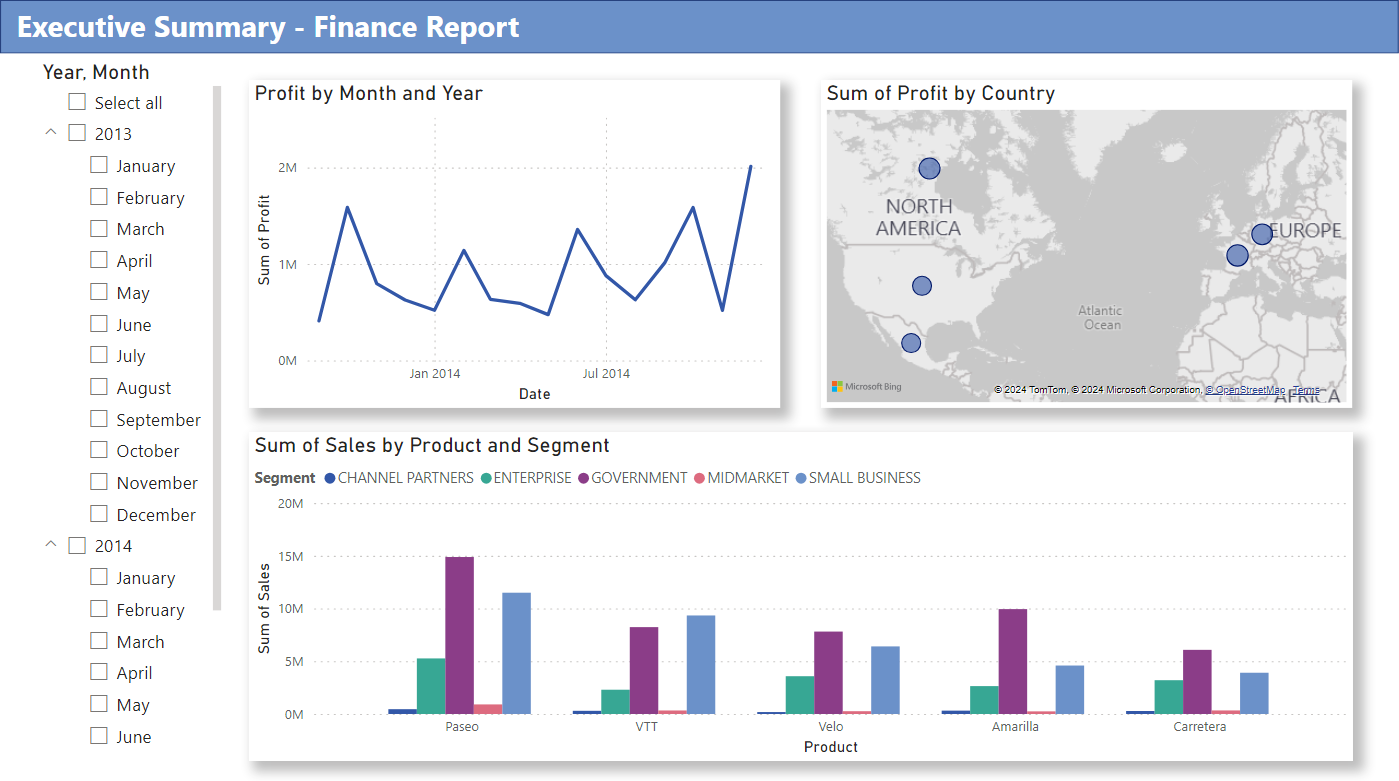

What the dashboard file says about the page in this screenshot:
{"tool":"powerbi","page":{"name":"Page 1","canvas":[1280,720],"ordinal":0},"visuals":[{"type":"shape","box":[0,0,1279.7,49.1],"z":0},{"type":"textbox","box":[9.6,0,473,49.1],"z":1000},{"type":"lineChart","title":"Profit by Month and Year","fields":{"Category":["Calendar.Date"],"Y":["Sum(financials.Profit)"]},"box":[227.7,73.6,486.1,299.6],"z":2000},{"type":"map","fields":{"Category":["financials.Country"],"Size":["Sum(financials.Profit)"]},"box":[751.5,73.6,486.1,299.6],"z":3000},{"type":"clusteredColumnChart","fields":{"Y":["Sum(financials. Sales)"],"Category":["financials.Product"],"Series":["financials.Segment"]},"box":[227.7,395,1009.9,301.3],"z":4000},{"type":"slicer","fields":{"Values":["Calendar.Date.Variation.Date Hierarchy.Year","Calendar.Date.Variation.Date Hierarchy.Month"]},"box":[25.4,49.1,182.2,647.3],"z":5000}]}

Visuals, with their boxes in screenshot pixels (x1, y1, x2, y2), scaled from the page's 1280x720 canvas onto the 1399x781 screenshot:
shape: l=0, t=0, r=1398, b=53
textbox: l=10, t=0, r=527, b=53
"Profit by Month and Year" lineChart: l=249, t=80, r=780, b=405
map - financials.Country x Sum(financials.Profit): l=821, t=80, r=1353, b=405
clusteredColumnChart - Sum(financials. Sales) x financials.Product: l=249, t=428, r=1353, b=755
slicer - Calendar.Date.Variation.Date Hierarchy.Year x Calendar.Date.Variation.Date Hierarchy.Month: l=28, t=53, r=227, b=755
